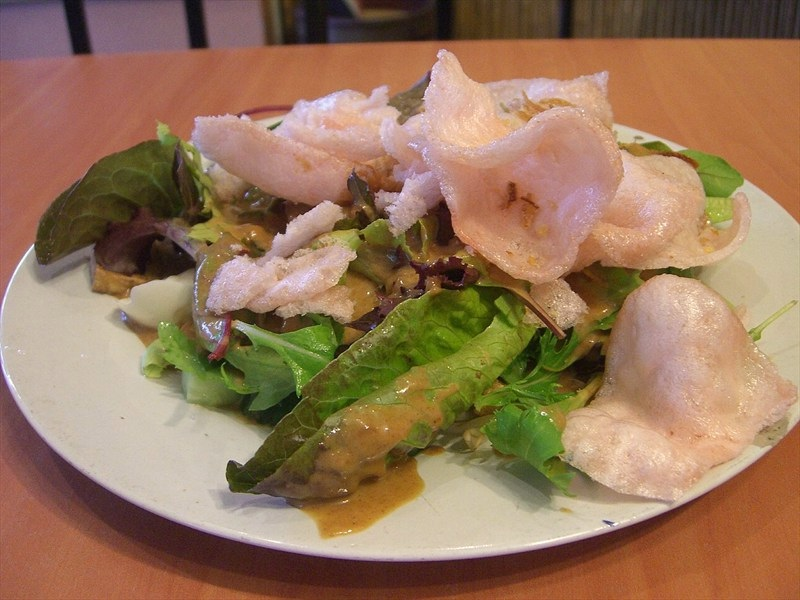Gado-Gado: (112, 79, 708, 571)
